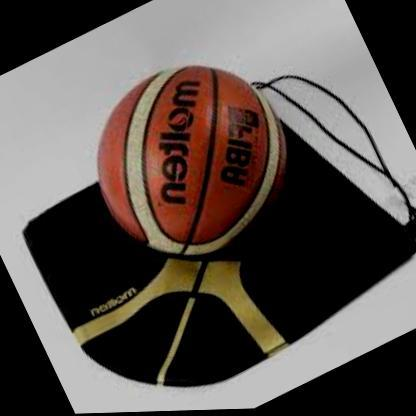basketball: (66, 32, 317, 289)
